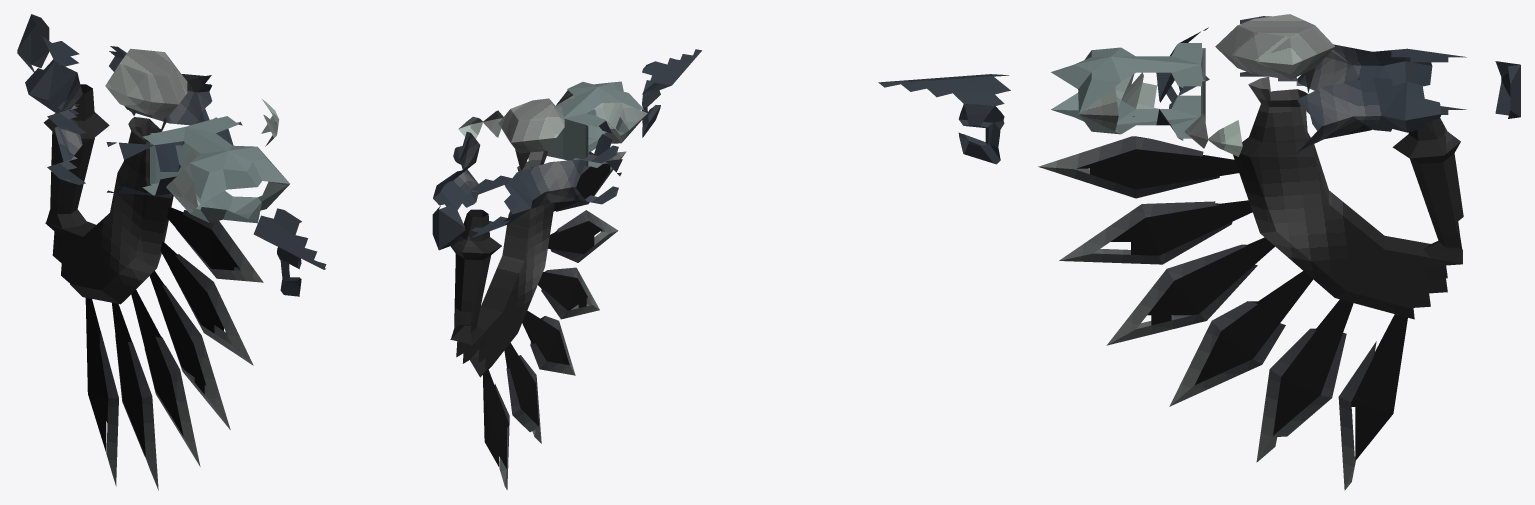
Rendered from standalone.obj.
The picture shows the model from 3 angles, left to right: view 1: azimuth 30°, elevation 25°; view 2: azimuth 150°, elevation 25°; view 3: azimuth 270°, elevation 25°; orthographic projection. The views are drawn at different scales.
Parts seen in each view (by area): view 1: standalone; view 2: standalone; view 3: standalone.
Boxes of the visible parts, <box> form: standalone: <box>17,14,326,490</box>; standalone: <box>432,49,701,489</box>; standalone: <box>878,14,1520,490</box>.
Size of the model in its own units: 66.45 by 115 by 170.
